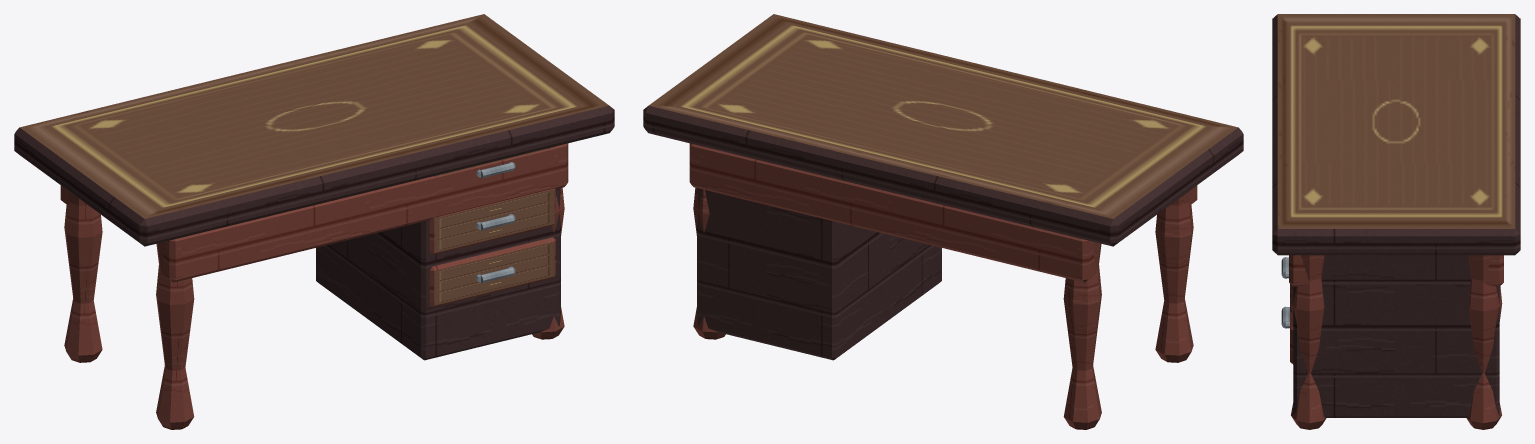
Rendered from MD_111_ExecutiveDesk.fbx.
3 views of the same model, side by side, from view 1: azimuth 30°, elevation 25°; view 2: azimuth 150°, elevation 25°; view 3: azimuth 270°, elevation 25° (orthographic). The views are drawn at different scales.
Visible parts, largest first — view 1: MD_111_ExecutiveDesk_thick_inlaid_top, MD_111_ExecutiveDesk_desk_pedestal, MD_111_ExecutiveDesk_carved_apron, MD_111_ExecutiveDesk_turned_leg.001, MD_111_ExecutiveDesk_desk_drawer, MD_111_ExecutiveDesk_turned_leg, MD_111_ExecutiveDesk_desk_drawer.001, MD_111_ExecutiveDesk_turned_leg.002; view 2: MD_111_ExecutiveDesk_thick_inlaid_top, MD_111_ExecutiveDesk_desk_pedestal, MD_111_ExecutiveDesk_carved_apron.001, MD_111_ExecutiveDesk_turned_leg, MD_111_ExecutiveDesk_turned_leg.001, MD_111_ExecutiveDesk_turned_leg.003; view 3: MD_111_ExecutiveDesk_thick_inlaid_top, MD_111_ExecutiveDesk_desk_pedestal, MD_111_ExecutiveDesk_turned_leg.003, MD_111_ExecutiveDesk_turned_leg.002, MD_111_ExecutiveDesk_carved_apron, MD_111_ExecutiveDesk_carved_apron.001.
Boxes of the visible parts, x1,y1,x2,y2 form: MD_111_ExecutiveDesk_thick_inlaid_top: (14, 14, 614, 246); MD_111_ExecutiveDesk_desk_pedestal: (316, 188, 560, 360); MD_111_ExecutiveDesk_carved_apron: (161, 143, 568, 282); MD_111_ExecutiveDesk_turned_leg.001: (64, 190, 102, 362); MD_111_ExecutiveDesk_desk_drawer: (429, 237, 555, 307); MD_111_ExecutiveDesk_turned_leg: (156, 241, 194, 429); MD_111_ExecutiveDesk_desk_drawer.001: (429, 188, 555, 254); MD_111_ExecutiveDesk_turned_leg.002: (532, 187, 564, 339); MD_111_ExecutiveDesk_thick_inlaid_top: (643, 14, 1243, 246); MD_111_ExecutiveDesk_desk_pedestal: (697, 188, 941, 360); MD_111_ExecutiveDesk_carved_apron.001: (689, 143, 1096, 282); MD_111_ExecutiveDesk_turned_leg: (1155, 190, 1193, 362); MD_111_ExecutiveDesk_turned_leg.001: (1063, 241, 1101, 429); MD_111_ExecutiveDesk_turned_leg.003: (693, 187, 725, 339); MD_111_ExecutiveDesk_thick_inlaid_top: (1272, 14, 1520, 255); MD_111_ExecutiveDesk_desk_pedestal: (1293, 255, 1499, 417); MD_111_ExecutiveDesk_turned_leg.003: (1466, 255, 1502, 429); MD_111_ExecutiveDesk_turned_leg.002: (1290, 255, 1326, 429); MD_111_ExecutiveDesk_carved_apron: (1289, 255, 1310, 286); MD_111_ExecutiveDesk_carved_apron.001: (1482, 255, 1503, 286).
Size of the model in its own units: 1.8 by 0.83 by 0.86.
5 materials, 5 textured.
